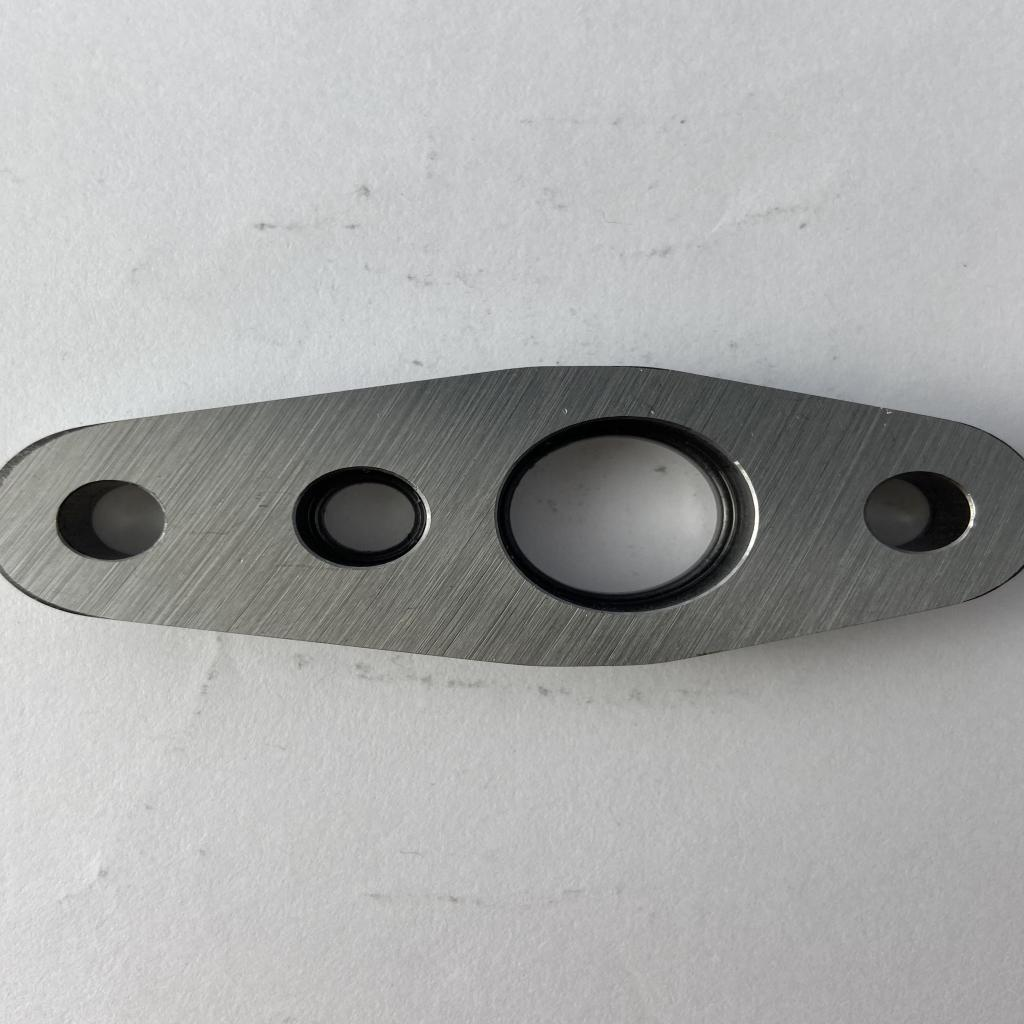chap: (558, 405, 571, 416), (236, 556, 248, 567), (881, 408, 896, 416), (646, 408, 658, 416)
